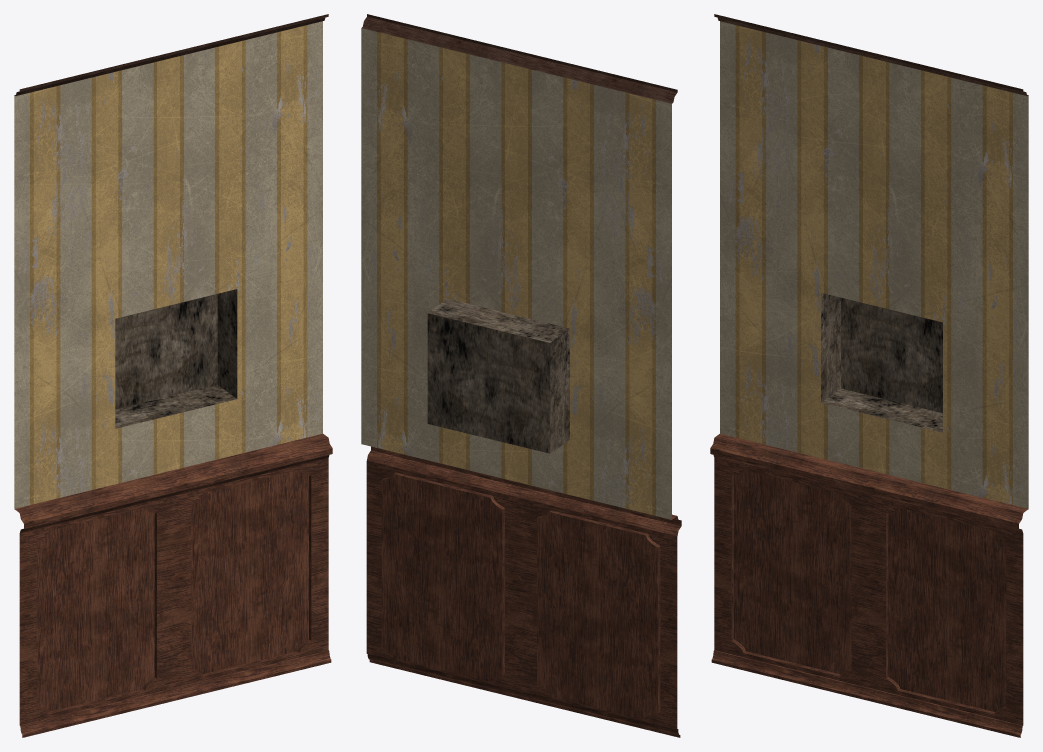
Rendered from SM_Wallpaper_Hide.fbx.
3 renders of one model, left to right at view 1: azimuth 30°, elevation 25°; view 2: azimuth 150°, elevation 25°; view 3: azimuth 330°, elevation 25°, orthographic.
Visible parts, largest first — view 1: SM_Wallpaper_Hide; view 2: SM_Wallpaper_Hide; view 3: SM_Wallpaper_Hide.
Part boxes in pixels (x1,y1,x2,y2): SM_Wallpaper_Hide: [14, 14, 332, 737]; SM_Wallpaper_Hide: [361, 14, 681, 737]; SM_Wallpaper_Hide: [710, 14, 1028, 737].
Size of the model in its own units: 200 by 400 by 32.9.
